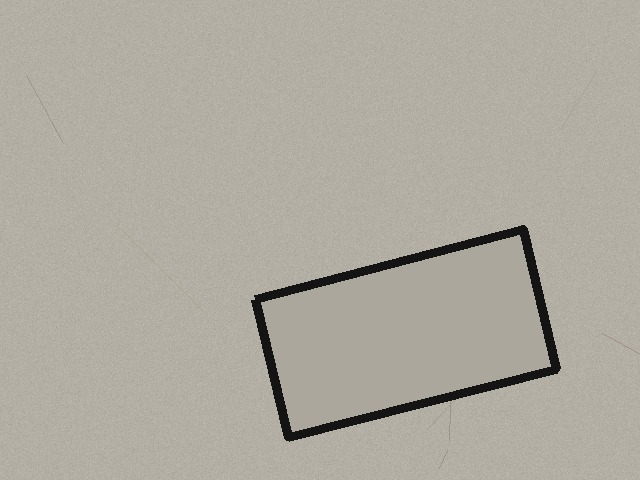parking_area: (255, 229, 556, 437)
